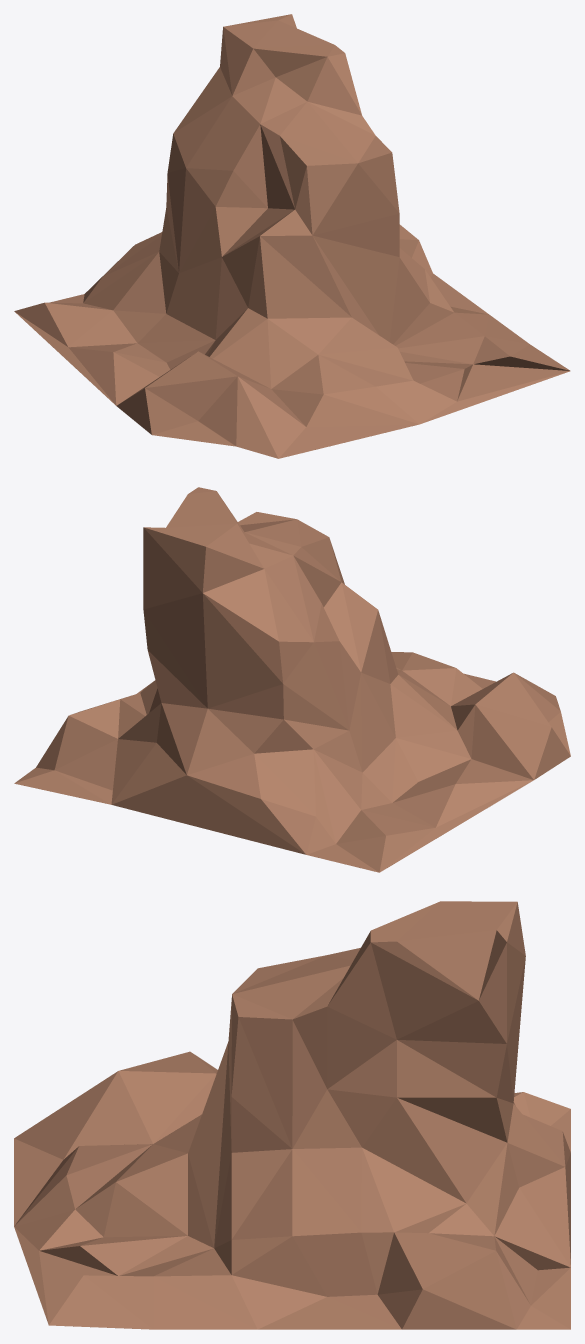
The model's file is 06 Mountain.FBX.
3 renders of one model, top to bottom at view 1: azimuth 30°, elevation 25°; view 2: azimuth 150°, elevation 25°; view 3: azimuth 270°, elevation 25°, orthographic. The views are drawn at different scales.
Parts seen in each view (by area): view 1: Mountain; view 2: Mountain; view 3: Mountain.
Boxes of the visible parts, x1,y1,x2,y2 form: Mountain: (14,14,570,458); Mountain: (14,487,570,872); Mountain: (14,901,570,1329).
Bounding box in the file's own units: 5152 × 3328 × 5152.
